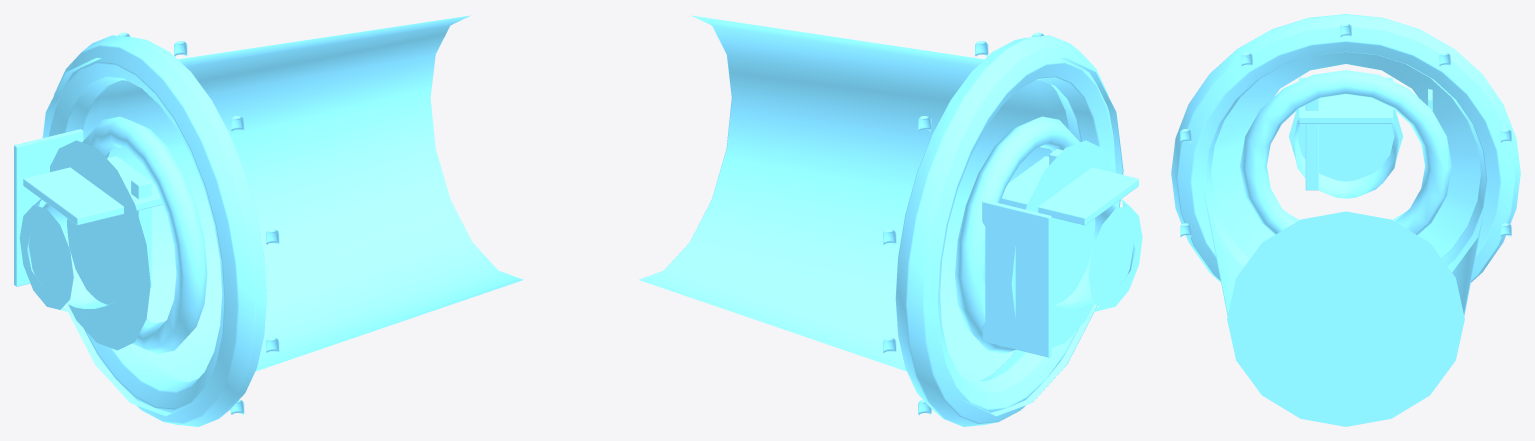
The picture shows the model from 3 angles, left to right: view 1: azimuth 30°, elevation 25°; view 2: azimuth 150°, elevation 25°; view 3: azimuth 270°, elevation 25°; orthographic projection. The views are drawn at different scales.
Parts seen in each view (by area): view 1: LOD0_ENGINE_PLASMA_RING_MAIN, Plasma_Ring_Outer, HOOK_DRIVE_FAN, DET_fusion_coil_ring, HOOK_DRIVE_PLUME, DET_corporate_polish_band, HOOK_DRIVE_CORE, engine_plasma_ring_Material_Mechanical_Merged, DET_lattice_strut_a; view 2: LOD0_ENGINE_PLASMA_RING_MAIN, Plasma_Ring_Outer, DET_corporate_polish_band, HOOK_DRIVE_FAN, DET_fusion_coil_ring, HOOK_DRIVE_PLUME, HOOK_DRIVE_CORE, engine_plasma_ring_Material_Mechanical_Merged; view 3: LOD0_ENGINE_PLASMA_RING_MAIN, Plasma_Ring_Outer, HOOK_DRIVE_FAN, HOOK_DRIVE_PLUME, DET_fusion_coil_ring, HOOK_DRIVE_CORE, DET_lattice_strut_a, engine_plasma_ring_Material_Mechanical_Merged.
Boxes of the visible parts, x1=… form: LOD0_ENGINE_PLASMA_RING_MAIN: x1=42, y1=15, x2=523, y2=416; Plasma_Ring_Outer: x1=49, y1=35, x2=266, y2=426; HOOK_DRIVE_FAN: x1=82, y1=116, x2=207, y2=353; DET_fusion_coil_ring: x1=23, y1=156, x2=162, y2=225; HOOK_DRIVE_PLUME: x1=19, y1=199, x2=73, y2=311; DET_corporate_polish_band: x1=14, y1=129, x2=83, y2=286; HOOK_DRIVE_CORE: x1=27, y1=203, x2=113, y2=308; engine_plasma_ring_Material_Mechanical_Merged: x1=118, y1=32, x2=279, y2=414; DET_lattice_strut_a: x1=131, y1=177, x2=151, y2=287; LOD0_ENGINE_PLASMA_RING_MAIN: x1=639, y1=15, x2=1123, y2=416; Plasma_Ring_Outer: x1=895, y1=35, x2=1116, y2=426; DET_corporate_polish_band: x1=982, y1=200, x2=1051, y2=357; HOOK_DRIVE_FAN: x1=955, y1=116, x2=1079, y2=353; DET_fusion_coil_ring: x1=1000, y1=156, x2=1138, y2=225; HOOK_DRIVE_PLUME: x1=1088, y1=199, x2=1142, y2=311; HOOK_DRIVE_CORE: x1=1052, y1=203, x2=1135, y2=308; engine_plasma_ring_Material_Mechanical_Merged: x1=883, y1=32, x2=1043, y2=415; LOD0_ENGINE_PLASMA_RING_MAIN: x1=1203, y1=52, x2=1488, y2=426; Plasma_Ring_Outer: x1=1171, y1=14, x2=1520, y2=282; HOOK_DRIVE_FAN: x1=1240, y1=70, x2=1451, y2=235; HOOK_DRIVE_PLUME: x1=1288, y1=109, x2=1403, y2=181; DET_fusion_coil_ring: x1=1299, y1=77, x2=1392, y2=123; HOOK_DRIVE_CORE: x1=1293, y1=120, x2=1398, y2=198; DET_lattice_strut_a: x1=1305, y1=99, x2=1318, y2=190; engine_plasma_ring_Material_Mechanical_Merged: x1=1180, y1=23, x2=1511, y2=237.
Bounding box in the file's own units: 2.77 × 2.08 × 2.08.
